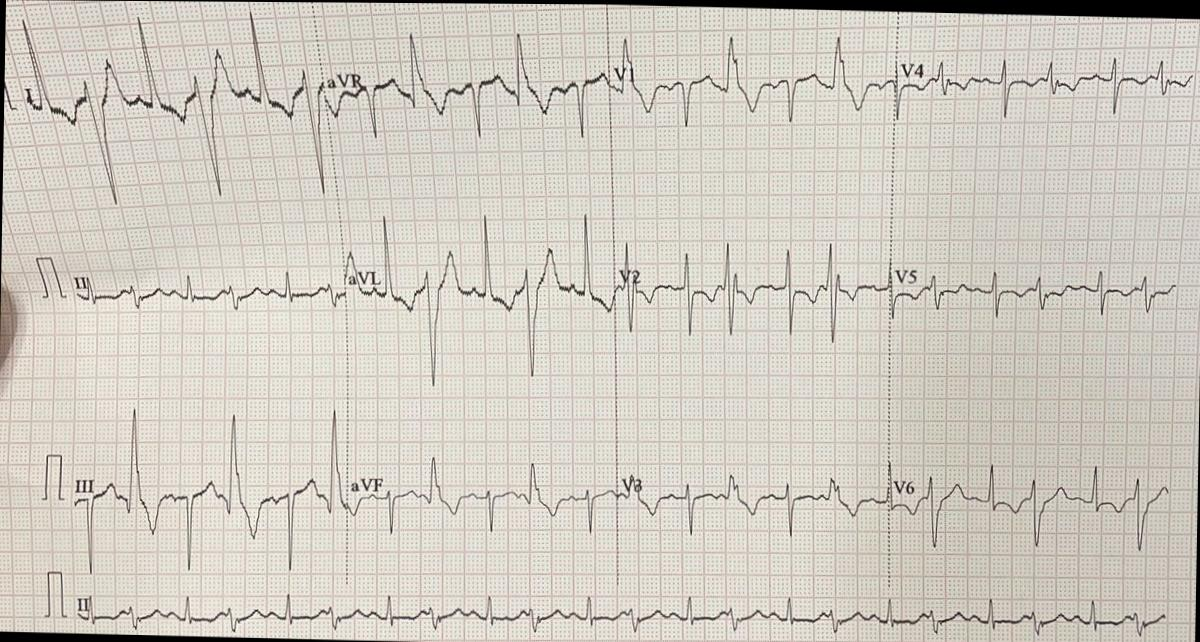Lead_I: (9, 0, 337, 227)
Lead_II: (67, 254, 346, 335)
Lead_III: (63, 401, 350, 588)
Lead_II_ext: (68, 572, 1175, 642)
Lead_V1: (612, 19, 900, 143)
Lead_V2: (612, 230, 892, 351)
Lead_V3: (614, 452, 891, 551)
Lead_V4: (898, 40, 1200, 122)
Lead_V5: (889, 247, 1185, 330)
Lead_V6: (889, 454, 1175, 565)
Lead_aVF: (346, 440, 618, 550)
Lead_aVL: (335, 196, 616, 396)
Lead_aVR: (321, 7, 614, 168)
